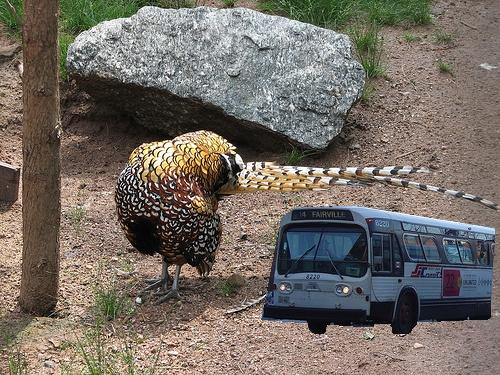tampered: (262, 207, 495, 334)
